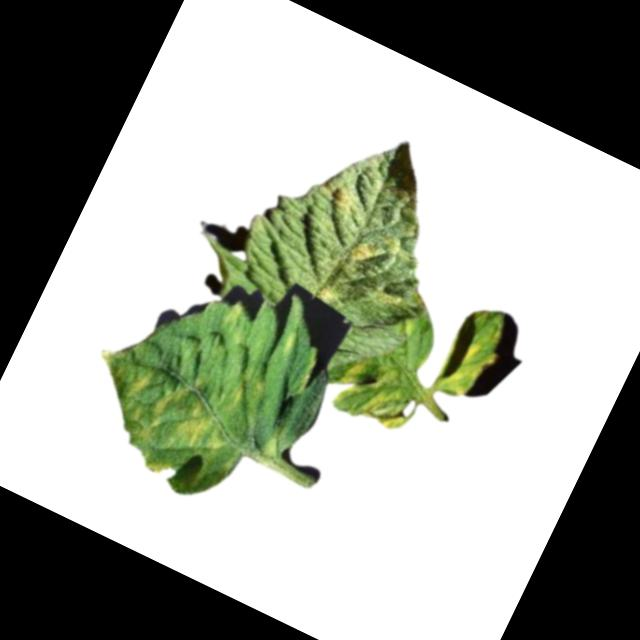Leaf_Mold: (62, 310, 269, 501), (327, 351, 431, 442), (430, 302, 511, 408), (314, 174, 366, 219), (344, 231, 392, 274), (315, 280, 344, 306)
